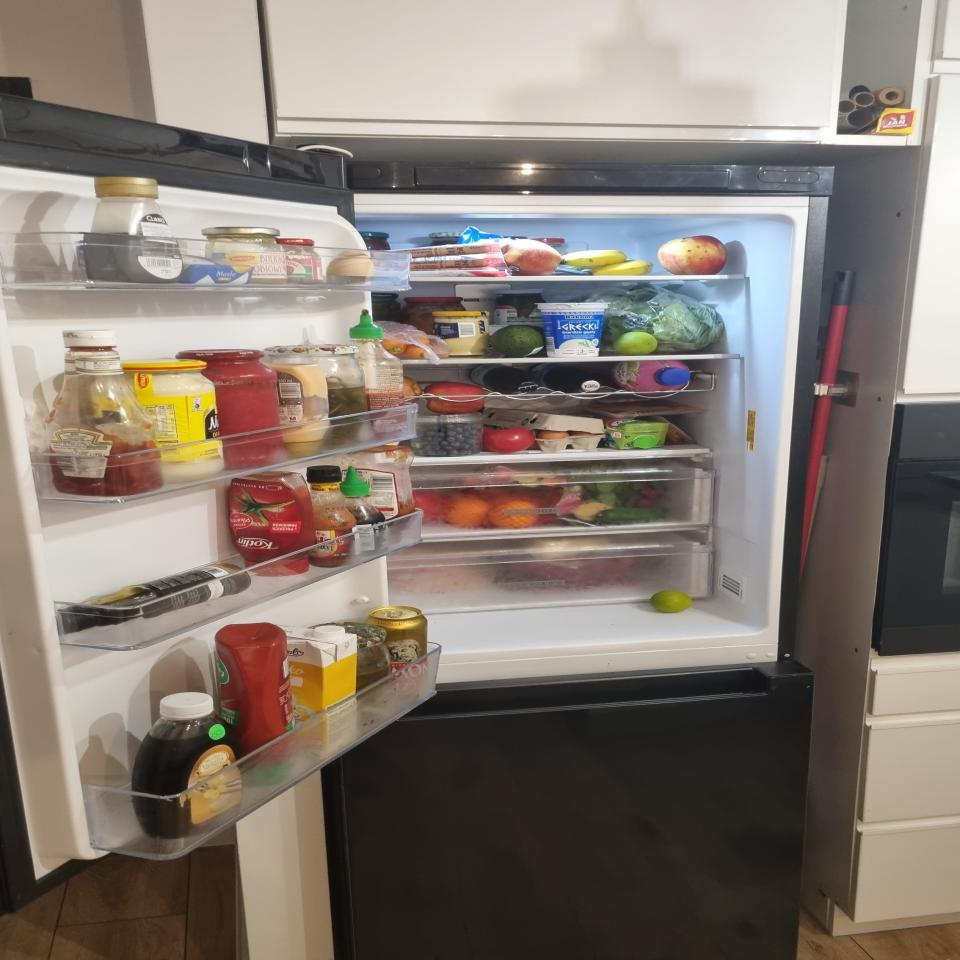Aguacate: (493, 324, 540, 356)
Huevos: (488, 409, 604, 452), (326, 251, 373, 284)
Leche: (278, 625, 359, 759)
Lechuga/Endivia: (606, 288, 725, 351)
Mantequilla: (180, 253, 254, 284)
Manzana: (658, 235, 728, 276), (494, 238, 562, 275), (427, 384, 484, 414), (403, 376, 422, 403)
Pepino: (596, 507, 670, 523)
Plátano: (563, 250, 653, 275)
Tomate: (485, 427, 534, 453)
Yogur: (536, 302, 611, 359)
Zanahoria: (383, 332, 434, 360)
